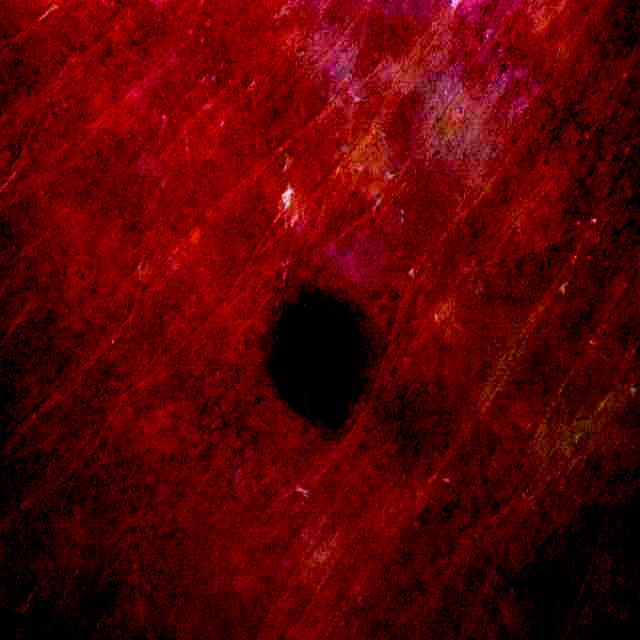VASC: (274, 290, 365, 432)
